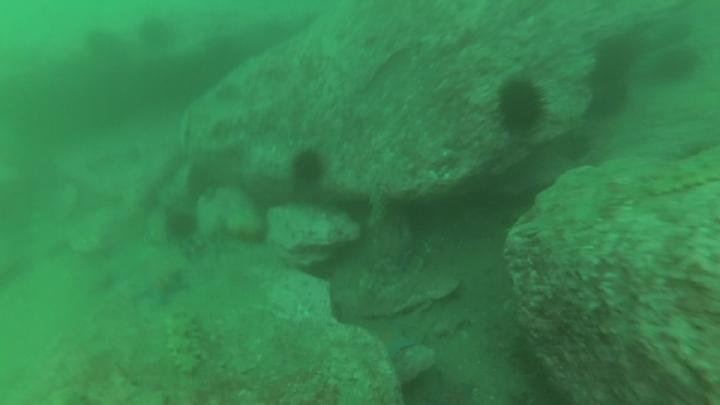echinus: (491, 77, 548, 141), (581, 74, 633, 123), (659, 46, 702, 84), (290, 147, 328, 186), (593, 43, 633, 80), (137, 21, 176, 52), (163, 208, 203, 237)
holothurian: (640, 157, 720, 199), (165, 312, 213, 378)
starfish: (134, 268, 187, 304)
